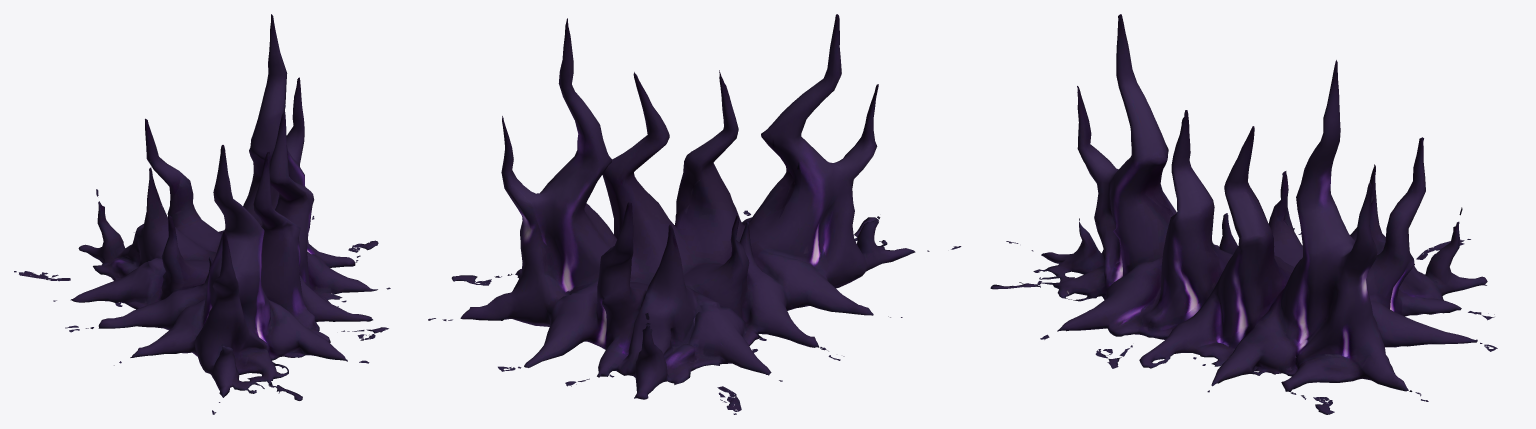
File: SM_Entorno_RocasFantasiaPuntiagudas_01.fbx
3 renders of one model, left to right at view 1: azimuth 30°, elevation 25°; view 2: azimuth 150°, elevation 25°; view 3: azimuth 270°, elevation 25°, orthographic. The views are drawn at different scales.
Visible parts, largest first — view 1: SM_Entorno_RocasFantasiaPuntiagudas_01; view 2: SM_Entorno_RocasFantasiaPuntiagudas_01; view 3: SM_Entorno_RocasFantasiaPuntiagudas_01.
Part boxes in pixels (x1,y1,x2,y2): SM_Entorno_RocasFantasiaPuntiagudas_01: (14,14,390,414); SM_Entorno_RocasFantasiaPuntiagudas_01: (428,14,961,414); SM_Entorno_RocasFantasiaPuntiagudas_01: (990,14,1497,414).
Size of the model in its own units: 0.8017 by 0.6026 by 0.9596.
1 material, 1 textured.
